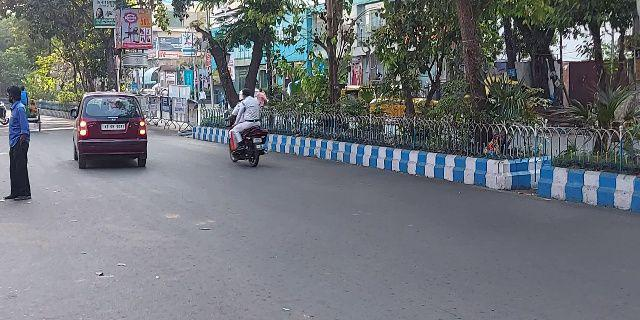Car: (68, 89, 151, 170)
Motorbike: (221, 86, 270, 169)
